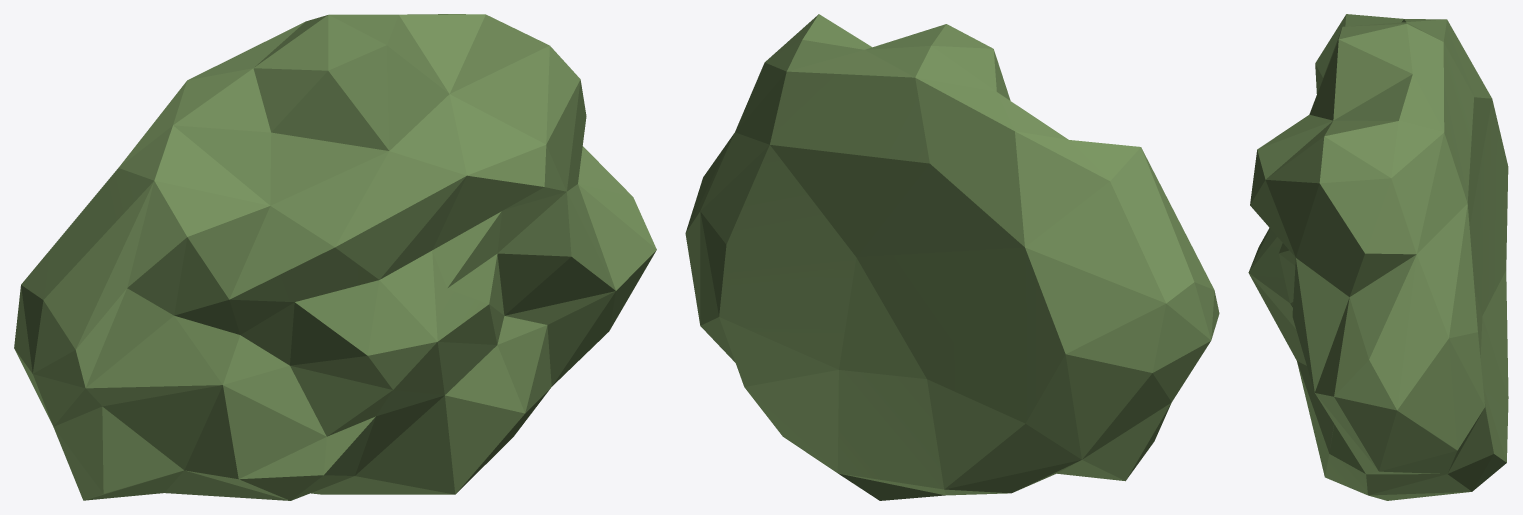
The model's file is bush1.gltf.
3 views of the same model, side by side, from view 1: azimuth 30°, elevation 25°; view 2: azimuth 150°, elevation 25°; view 3: azimuth 270°, elevation 25° (orthographic). The views are drawn at different scales.
Visible parts, largest first — view 1: Bush_1_1_LOD0; view 2: Bush_1_1_LOD0; view 3: Bush_1_1_LOD0.
Part boxes in pixels (x1=…): Bush_1_1_LOD0: x1=14, y1=14, x2=656, y2=500; Bush_1_1_LOD0: x1=685, y1=14, x2=1219, y2=500; Bush_1_1_LOD0: x1=1248, y1=14, x2=1508, y2=500.
Size of the model in its own units: 2.79 by 2.23 by 1.17.
